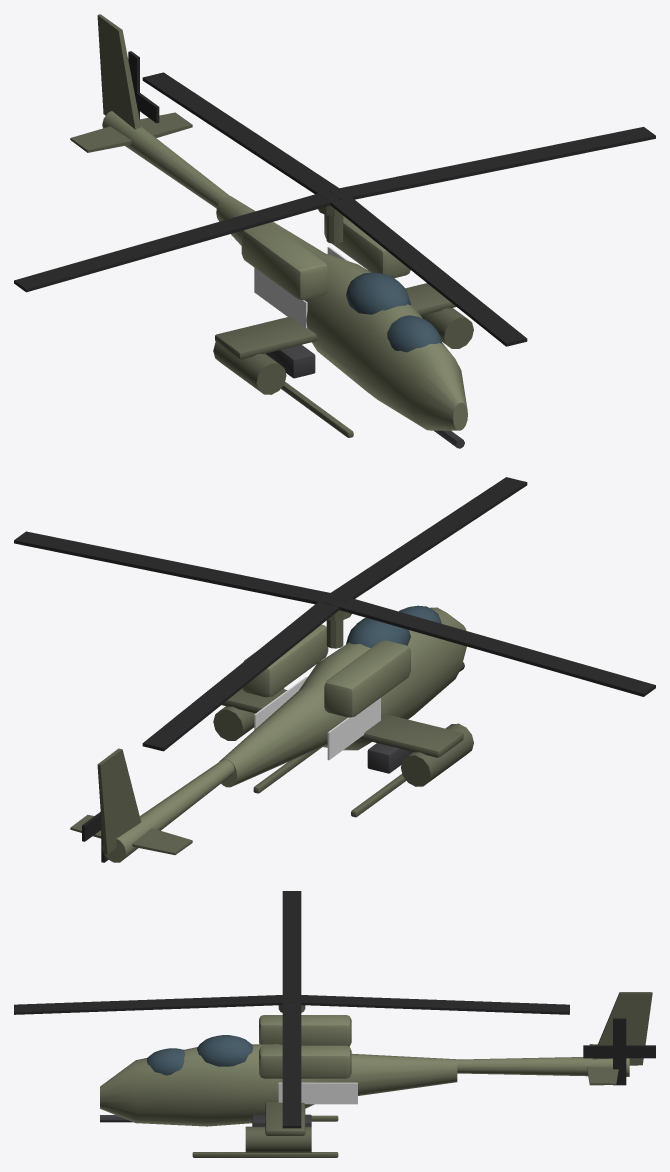
File: helicopter.glb
3 views of the same model, one above another, from view 1: azimuth 30°, elevation 25°; view 2: azimuth 150°, elevation 25°; view 3: azimuth 270°, elevation 25° (orthographic). The views are drawn at different scales.
Visible parts, largest first — view 1: body, rotor, rotor_tail; view 2: body, rotor; view 3: body, rotor, rotor_tail.
Part boxes in pixels (x1=…): body: x1=70, y1=14, x2=473, y2=448; rotor: x1=14, y1=72, x2=655, y2=346; rotor_tail: x1=128, y1=51, x2=159, y2=123; body: x1=70, y1=605, x2=473, y2=862; rotor: x1=14, y1=477, x2=655, y2=751; body: x1=100, y1=992, x2=652, y2=1157; rotor: x1=14, y1=891, x2=569, y2=1128; rotor_tail: x1=583, y1=1018, x2=655, y2=1085.
Size of the model in its own units: 8.4 by 2.44 by 9.7.
